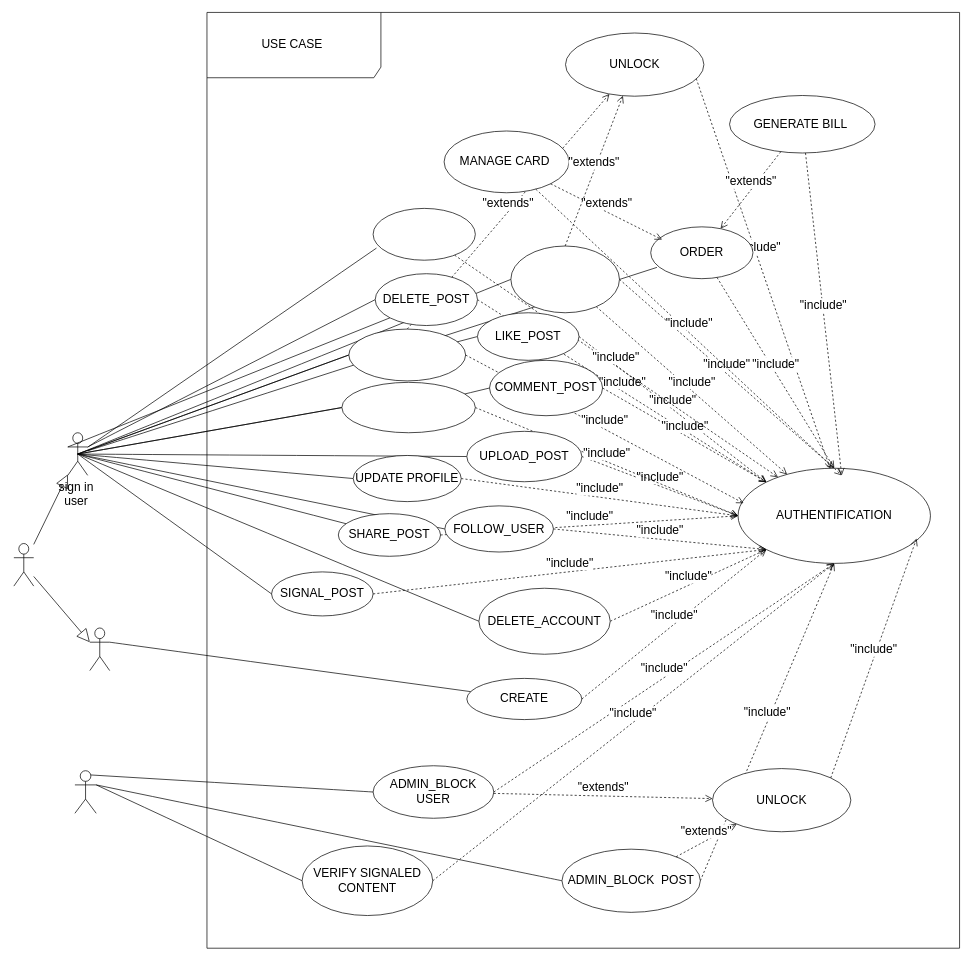
The diagram is 972 pixels wide and 961 high, and some of its shapes have lost their labels. The box of each missing label's shape, as (x1, y1, x2, y2) in pixels:
admin: (74, 770, 96, 813)
CHAT: (372, 208, 475, 260)
DOWNLOAD_POST: (341, 382, 475, 433)
sign up user: (89, 627, 110, 671)
user: (13, 543, 34, 586)
USER_BLOCK POST: (348, 328, 466, 381)
USER_BLOCK USER: (510, 245, 619, 313)
